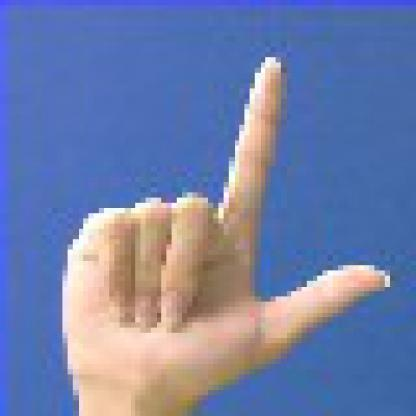seven: (41, 26, 410, 411)
